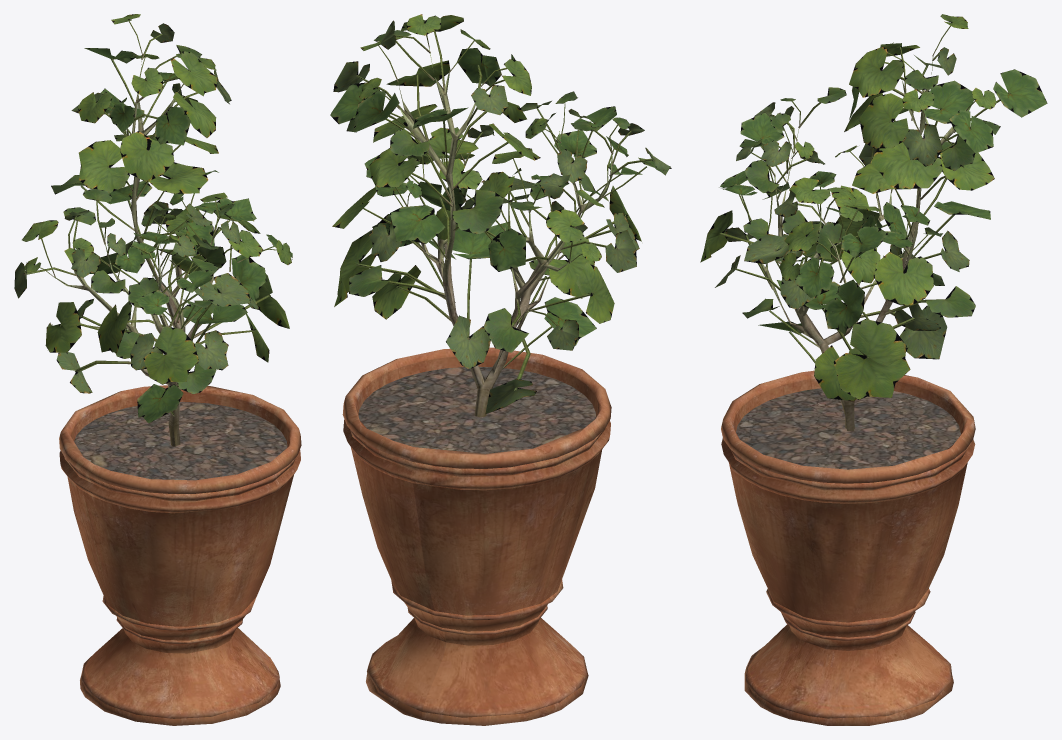
The model's file is PottedPlant.obj.
3 views of the same model, side by side, from view 1: azimuth 30°, elevation 25°; view 2: azimuth 150°, elevation 25°; view 3: azimuth 270°, elevation 25° (orthographic). The views are drawn at different scales.
Parts seen in each view (by area): view 1: Pot, Leaves; view 2: Pot, Leaves; view 3: Pot, Leaves.
Boxes of the visible parts, <box> form: Pot: <box>54,57,301,725</box>; Leaves: <box>14,14,292,423</box>; Pot: <box>342,47,612,725</box>; Leaves: <box>330,14,671,413</box>; Pot: <box>721,55,975,725</box>; Leaves: <box>700,14,1047,400</box>.
Size of the model in its own units: 0.5867 by 1.33 by 0.6336.
2 materials, 2 textured.
